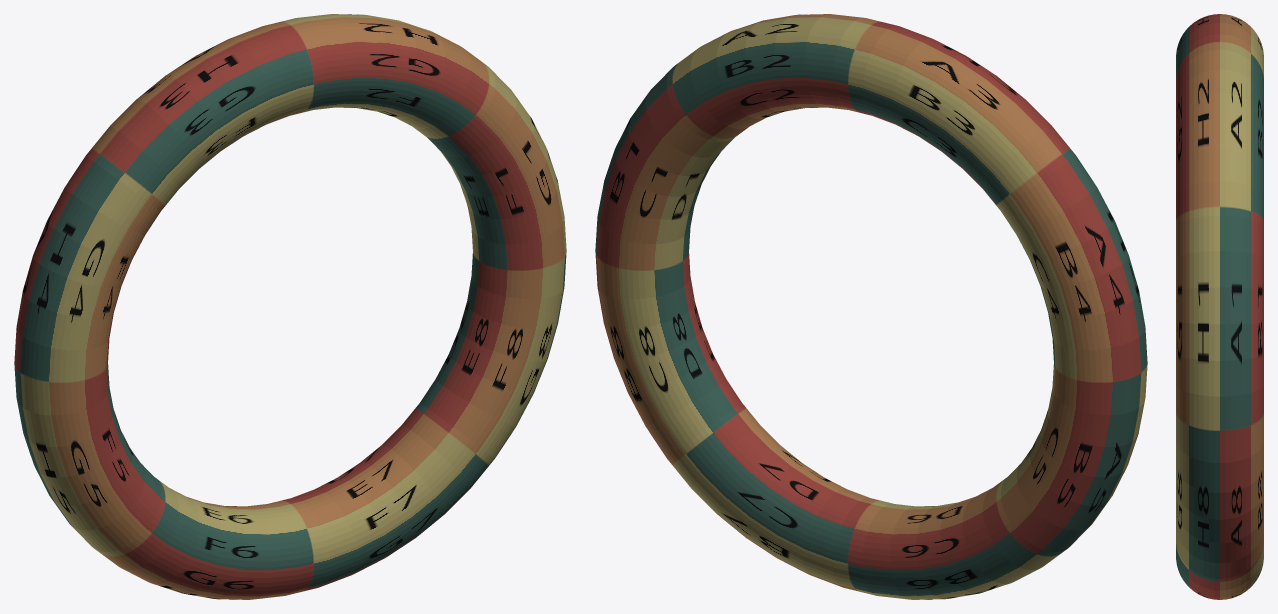
Rendered from texture_torus_R11_r4.glb.
3 views of the same model, side by side, from view 1: azimuth 30°, elevation 25°; view 2: azimuth 150°, elevation 25°; view 3: azimuth 270°, elevation 25° (orthographic). The views are drawn at different scales.
Visible parts, largest first — view 1: world; view 2: world; view 3: world.
Part boxes in pixels (left/top/right/bottom): world: left=14, top=14, right=566, bottom=599; world: left=595, top=14, right=1147, bottom=599; world: left=1176, top=14, right=1263, bottom=599.
Bounding box in the file's own units: 20.4 × 20.36 × 3.06.
1 material, 1 textured.
